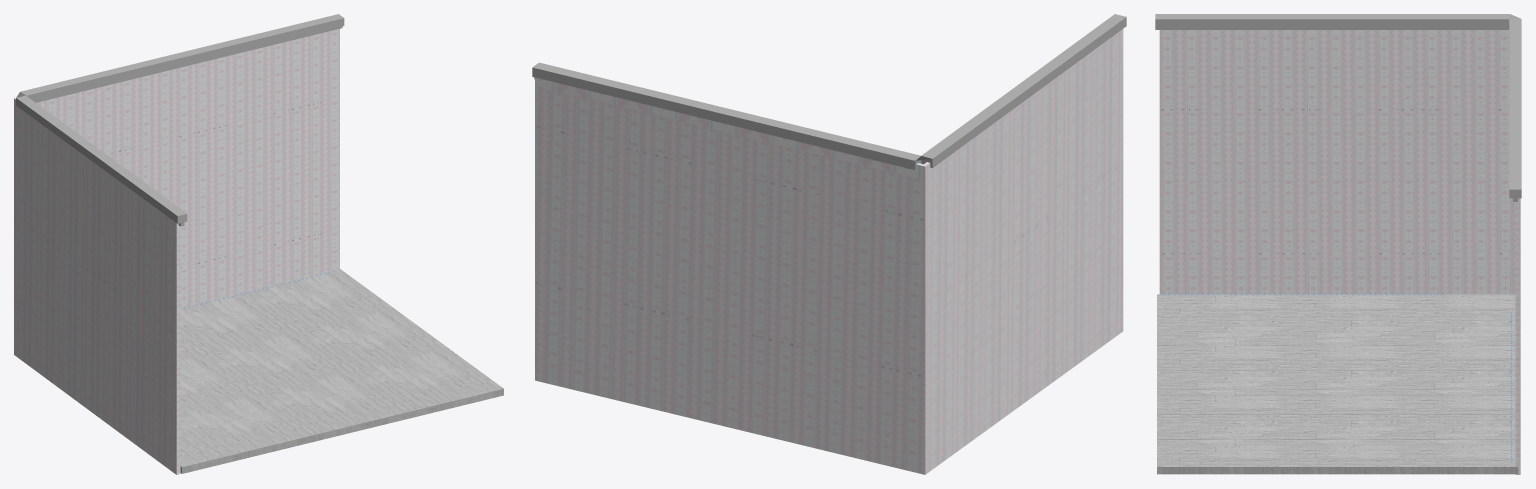
Rendered from wall-floor.gltf.
The picture shows the model from 3 angles, left to right: view 1: azimuth 30°, elevation 25°; view 2: azimuth 150°, elevation 25°; view 3: azimuth 270°, elevation 25°; orthographic projection. The views are drawn at different scales.
Parts seen in each view (by area): view 1: wall_and_floor; view 2: wall_and_floor; view 3: wall_and_floor.
Part boxes in pixels (x1,y1,x2,y2): wall_and_floor: [14, 14, 503, 474]; wall_and_floor: [532, 14, 1126, 474]; wall_and_floor: [1155, 14, 1521, 474].
Bounding box in the file's own units: 22.09 × 16.77 × 19.46.
Materials: 1 (1 with a texture image).
